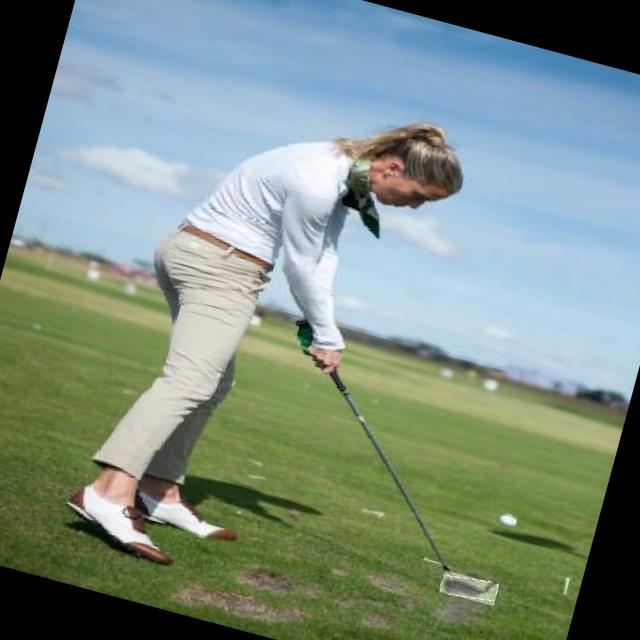club head: (439, 570, 499, 606)
